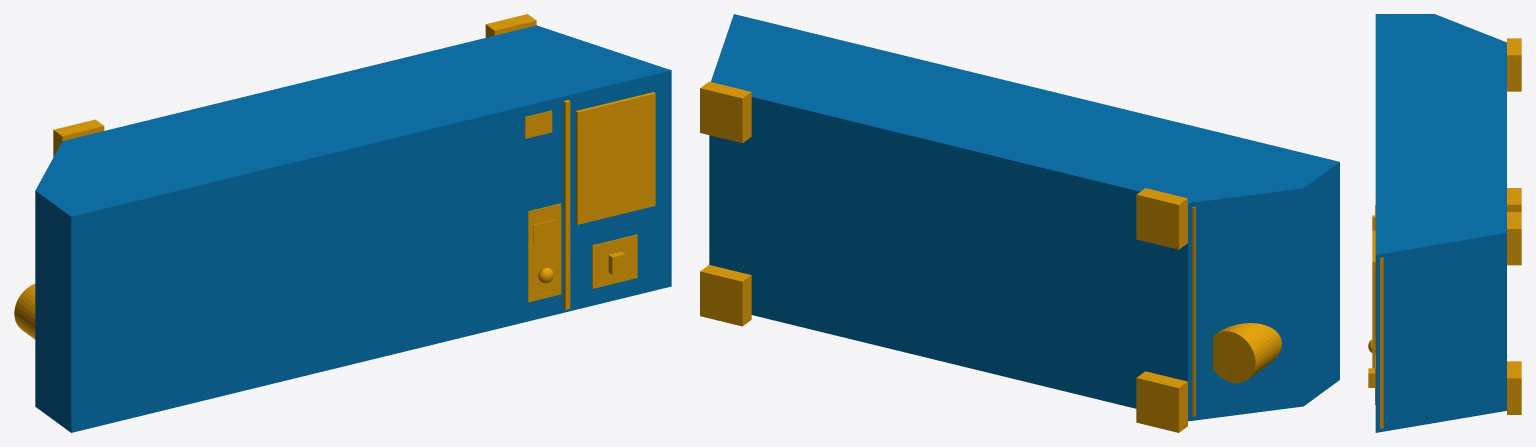
File: c204_B_ecorche_DOC-005.obj
3 views of the same model, side by side, from view 1: azimuth 30°, elevation 25°; view 2: azimuth 150°, elevation 25°; view 3: azimuth 270°, elevation 25° (orthographic). The views are drawn at different scales.
Visible parts, largest first — view 1: B-001_Enveloppe_prismatique_à_extrémités_biseautées, B-034_Plaque_ou_capot_rectangulaire, B-035_Platine_à_fenêtre_et_bouton_bombé, B-039_Cadre_de_l_interrupteur_rectangulaire, B-038_Barre_de_séparation_du_pupitre, B-008_Grand_réservoir_cylindrique_vertical_d_extrémité, B-003_Patin_d_appui_n_2, B-005_Patin_d_appui_n_4, B-033_Fenêtre_ou_fente_sombre; view 2: B-001_Enveloppe_prismatique_à_extrémités_biseautées, B-008_Grand_réservoir_cylindrique_vertical_d_extrémité, B-002_Patin_d_appui_n_1, B-005_Patin_d_appui_n_4, B-003_Patin_d_appui_n_2, B-004_Patin_d_appui_n_3, B-006_Cloison_transversale_gauche; view 3: B-001_Enveloppe_prismatique_à_extrémités_biseautées, B-003_Patin_d_appui_n_2, B-004_Patin_d_appui_n_3, B-005_Patin_d_appui_n_4, B-032_Pont_supérieur_du_pupitre__extrémité_droite_, B-034_Plaque_ou_capot_rectangulaire, B-002_Patin_d_appui_n_1.
Part boxes in pixels (x1,y1,x2,y2): B-001_Enveloppe_prismatique_à_extrémités_biseautées: (35,25,671,432); B-034_Plaque_ou_capot_rectangulaire: (575,92,655,224); B-035_Platine_à_fenêtre_et_bouton_bombé: (528,203,561,302); B-039_Cadre_de_l_interrupteur_rectangulaire: (592,234,637,288); B-038_Barre_de_séparation_du_pupitre: (563,100,570,309); B-008_Grand_réservoir_cylindrique_vertical_d_extrémité: (14,284,35,339); B-003_Patin_d_appui_n_2: (53,119,104,156); B-005_Patin_d_appui_n_4: (485,14,536,37); B-033_Fenêtre_ou_fente_sombre: (525,110,552,138); B-001_Enveloppe_prismatique_à_extrémités_biseautées: (709,14,1339,421); B-008_Grand_réservoir_cylindrique_vertical_d_extrémité: (1213,323,1281,383); B-002_Patin_d_appui_n_1: (1136,371,1187,432); B-005_Patin_d_appui_n_4: (700,81,751,143); B-003_Patin_d_appui_n_2: (1136,188,1187,249); B-004_Patin_d_appui_n_3: (700,265,751,326); B-006_Cloison_transversale_gauche: (1192,206,1195,416); B-001_Enveloppe_prismatique_à_extrémités_biseautées: (1375,14,1506,432); B-003_Patin_d_appui_n_2: (1507,38,1521,91); B-004_Patin_d_appui_n_3: (1507,361,1521,414); B-005_Patin_d_appui_n_4: (1507,212,1521,265); B-032_Pont_supérieur_du_pupitre__extrémité_droite_: (1380,257,1383,428); B-034_Plaque_ou_capot_rectangulaire: (1372,230,1375,354); B-002_Patin_d_appui_n_1: (1507,188,1521,211).
Size of the model in its own units: 0.85 by 0.3056 by 0.2286.
